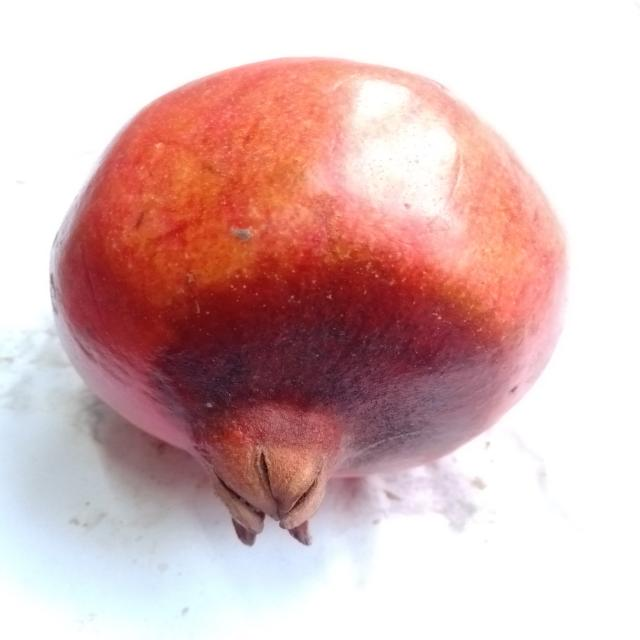Rotten: (41, 43, 579, 551)
